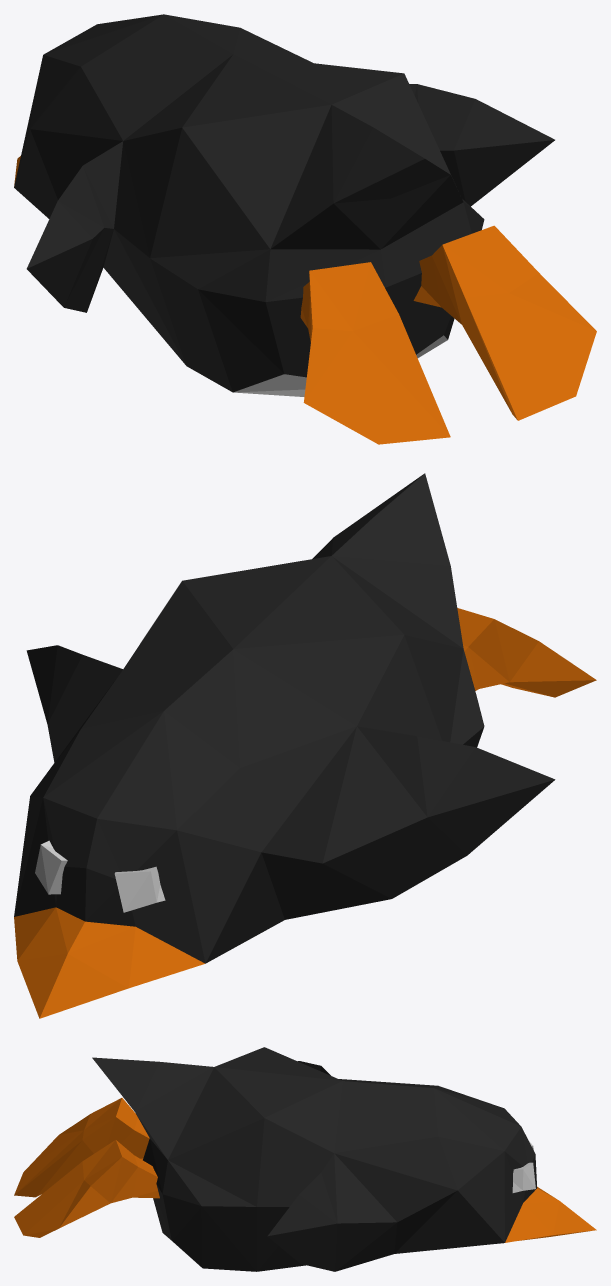
Rendered from penguin.dae.
3 views of the same model, one above another, from view 1: azimuth 30°, elevation 25°; view 2: azimuth 150°, elevation 25°; view 3: azimuth 270°, elevation 25° (orthographic). The views are drawn at different scales.
Visible parts, largest first — view 1: Cube_000; view 2: Cube_000; view 3: Cube_000.
Part boxes in pixels (x1=…): Cube_000: x1=14, y1=14, x2=596, y2=444; Cube_000: x1=14, y1=473, x2=596, y2=1018; Cube_000: x1=14, y1=1047, x2=596, y2=1271.
Size of the model in its own units: 3.86 by 5.62 by 2.13.
